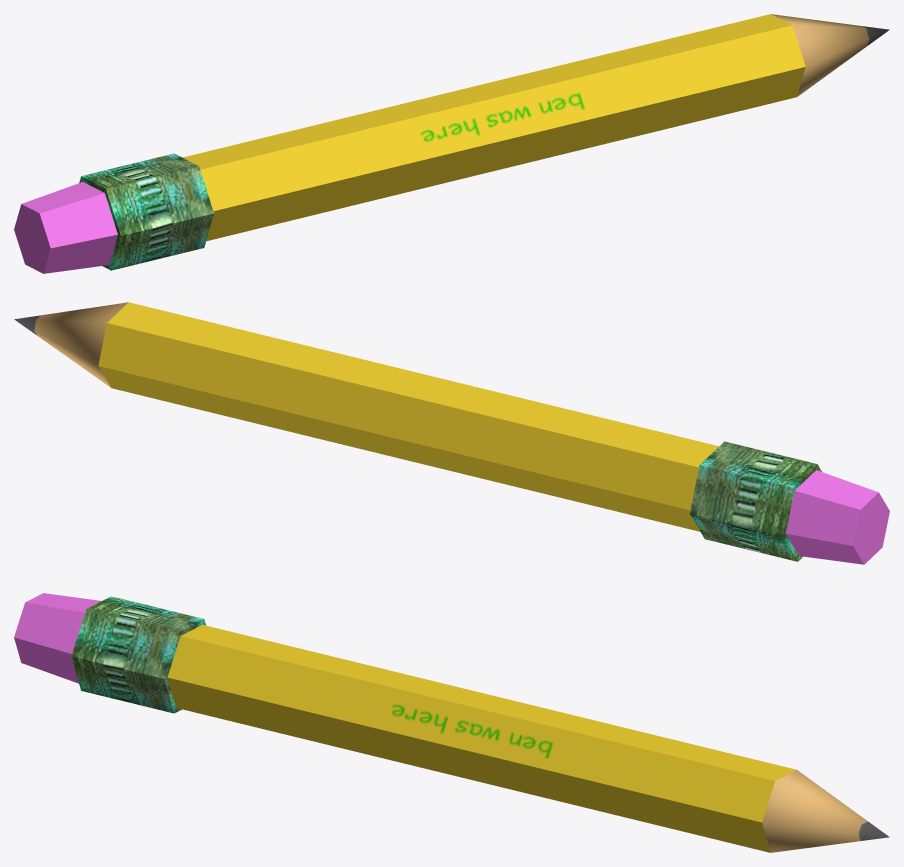
Rendered from Pencil.fbx.
3 renders of one model, top to bottom at view 1: azimuth 30°, elevation 25°; view 2: azimuth 150°, elevation 25°; view 3: azimuth 330°, elevation 25°, orthographic.
Parts seen in each view (by area): view 1: Pencil; view 2: Pencil; view 3: Pencil.
Part boxes in pixels (x1,y1,x2,y2): Pencil: [14, 14, 889, 273]; Pencil: [14, 302, 889, 564]; Pencil: [14, 593, 889, 852].
Bounding box in the file's own units: 2.96 × 0.2751 × 0.2971.
